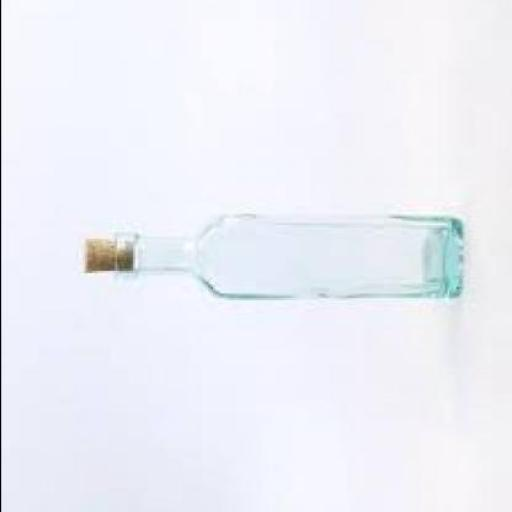glass: (111, 219, 460, 300)
